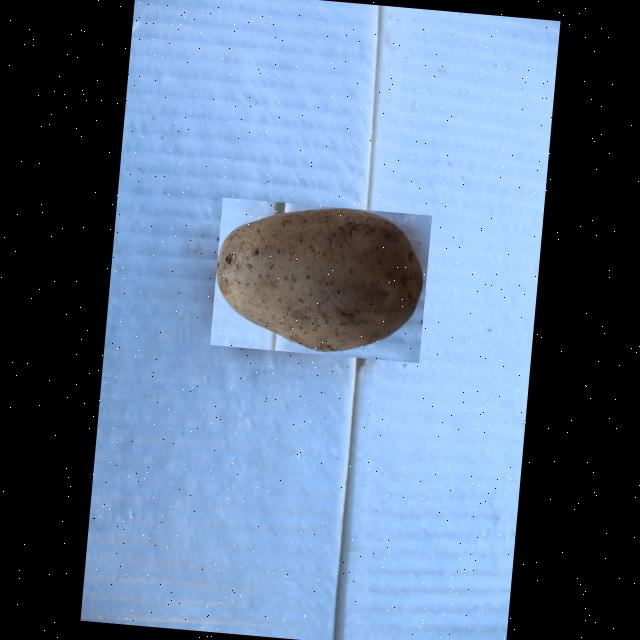Diseased-fungal potato: (209, 196, 432, 362)
